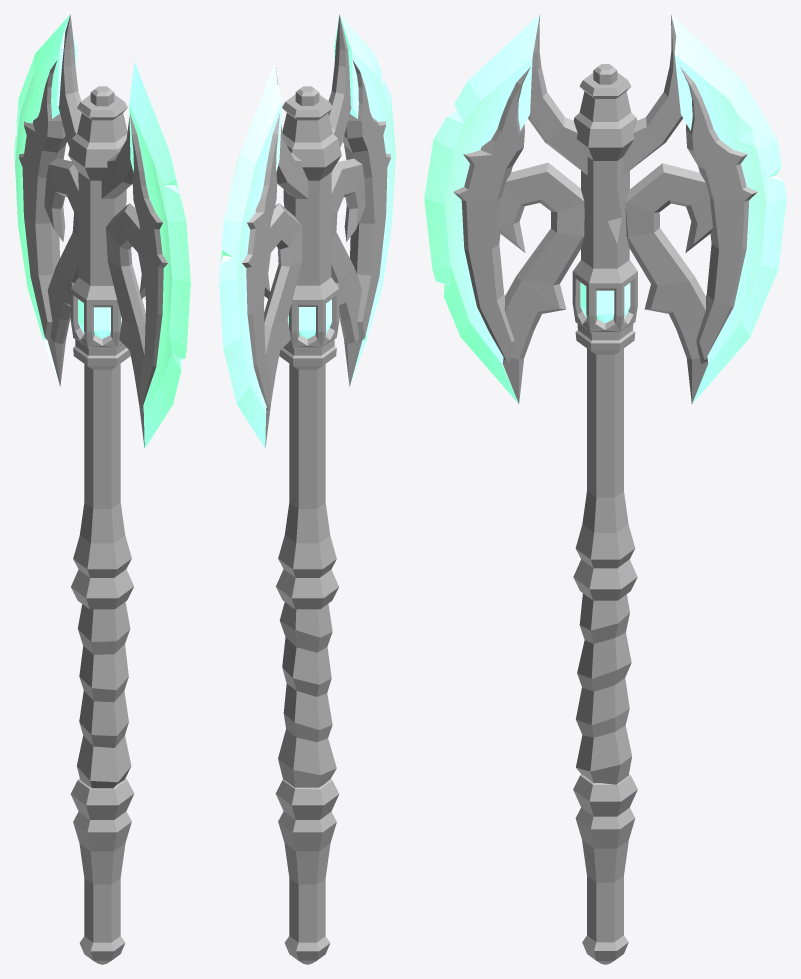
The model's file is SM_Wep_Axe_05.fbx.
The picture shows the model from 3 angles, left to right: view 1: azimuth 30°, elevation 25°; view 2: azimuth 150°, elevation 25°; view 3: azimuth 270°, elevation 25°; orthographic projection. The views are drawn at different scales.
Parts seen in each view (by area): view 1: SM_Wep_Axe_05; view 2: SM_Wep_Axe_05; view 3: SM_Wep_Axe_05.
Part boxes in pixels (bbox=[...]): SM_Wep_Axe_05: bbox=[14, 14, 190, 964]; SM_Wep_Axe_05: bbox=[219, 14, 395, 964]; SM_Wep_Axe_05: bbox=[424, 14, 786, 964].
Bounding box in the file's own units: 8.88 × 151 × 52.3.
